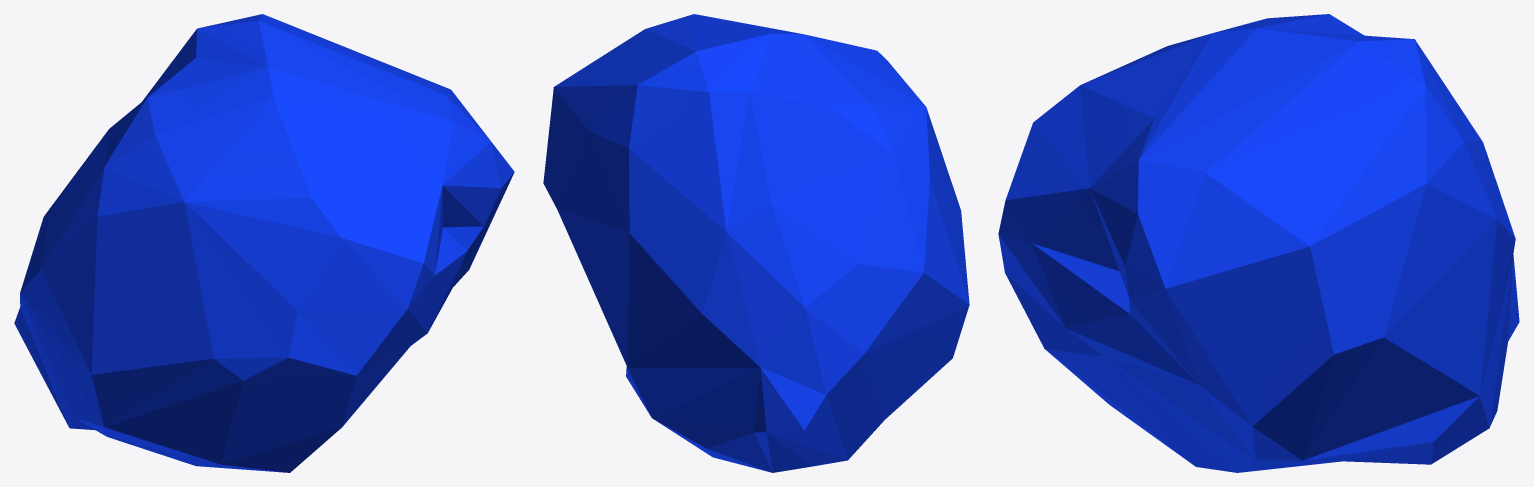
Rendered from SM_emissive_rock_06.fbx.
3 views of the same model, side by side, from view 1: azimuth 30°, elevation 25°; view 2: azimuth 150°, elevation 25°; view 3: azimuth 270°, elevation 25° (orthographic). The views are drawn at different scales.
Visible parts, largest first — view 1: emissive_rock_06; view 2: emissive_rock_06; view 3: emissive_rock_06.
Part boxes in pixels (x1,y1,x2,y2): emissive_rock_06: (14, 14, 514, 472); emissive_rock_06: (543, 14, 969, 472); emissive_rock_06: (998, 14, 1519, 472).
Size of the model in its own units: 101 by 95.53 by 98.89.
